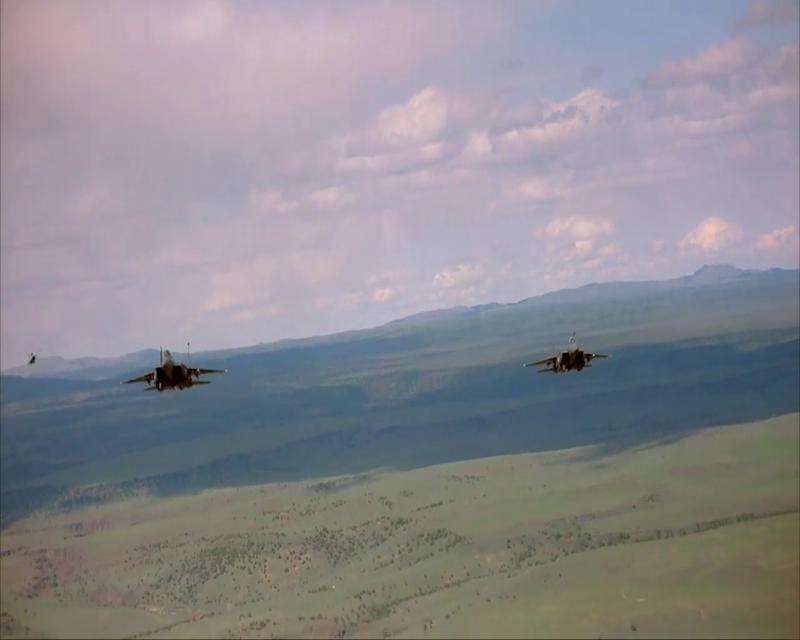UAV: (120, 341, 227, 393), (522, 331, 611, 374)
